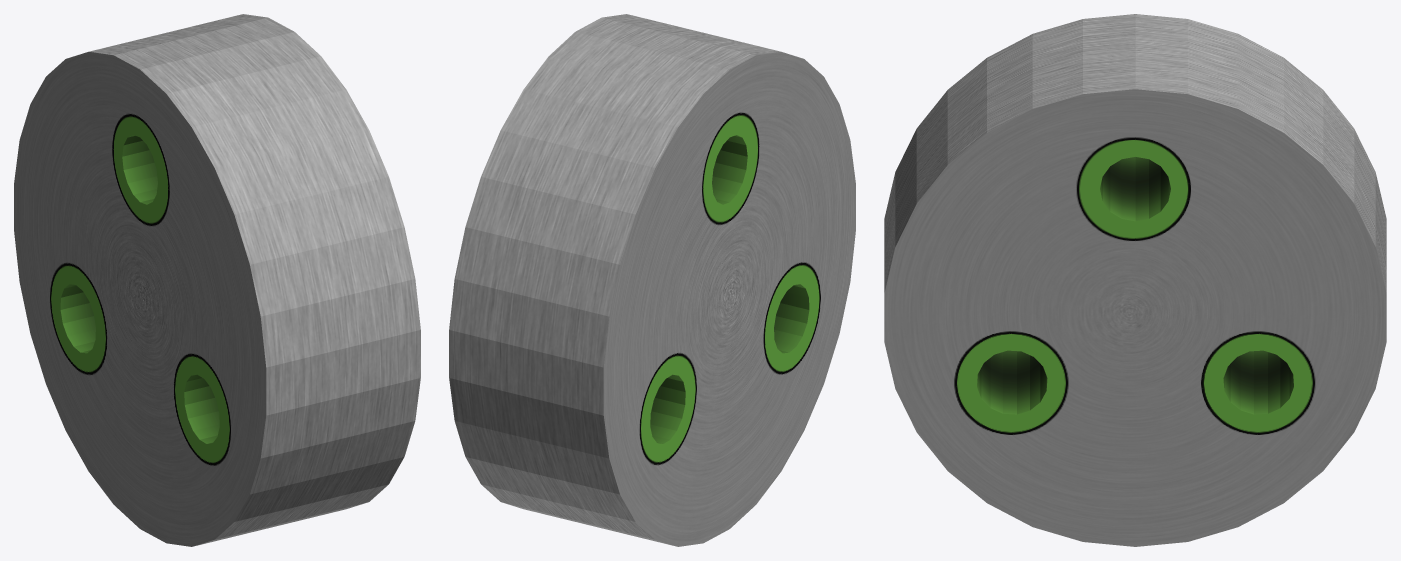
Rendered from wheel_hub.dae.
The picture shows the model from 3 angles, left to right: view 1: azimuth 30°, elevation 25°; view 2: azimuth 150°, elevation 25°; view 3: azimuth 270°, elevation 25°; orthographic projection.
Parts seen in each view (by area): view 1: Cylinder_001; view 2: Cylinder_001; view 3: Cylinder_001.
Boxes of the visible parts, left/top/right/bottom form: Cylinder_001: left=14, top=14, right=420, bottom=546; Cylinder_001: left=449, top=14, right=855, bottom=546; Cylinder_001: left=884, top=14, right=1386, bottom=546.
Size of the model in its own units: 0.0733 by 0.207 by 0.2081.
1 material, 1 textured.
